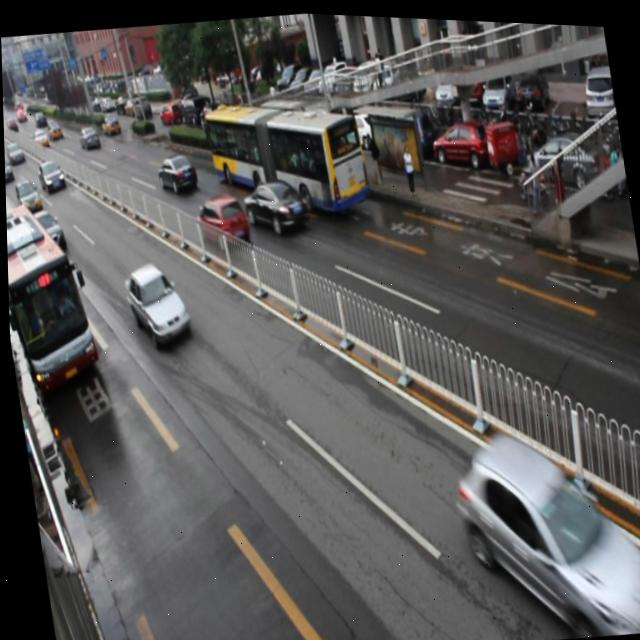car: (447, 413, 640, 640), (118, 255, 189, 349), (239, 172, 305, 235), (192, 187, 249, 249), (154, 148, 198, 197), (29, 206, 65, 249), (12, 176, 41, 215)
van: (201, 83, 367, 222), (5, 199, 100, 396)
